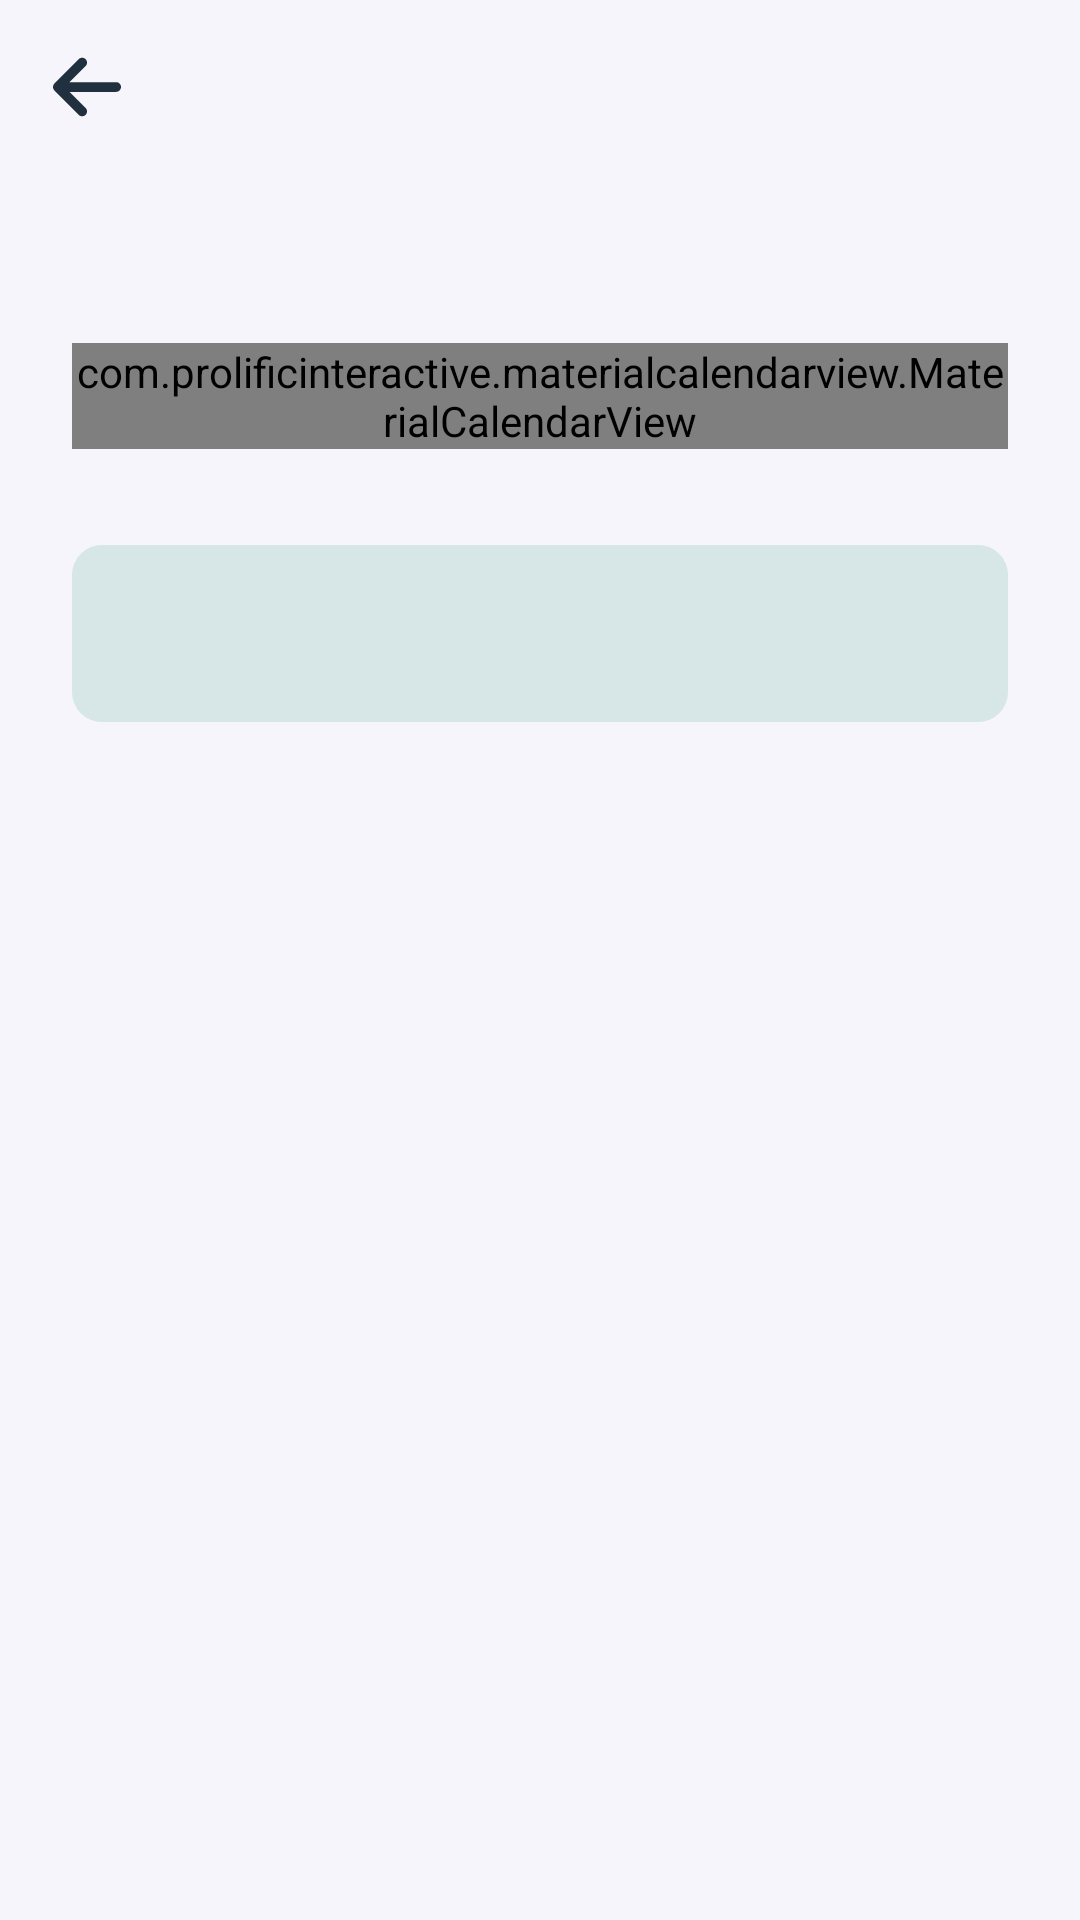

Named icons in this screenshot (1080px×1920px) and their bounding boxes, [x1,y1,x2,y2]:
go back arrow: [53,57,121,117]
